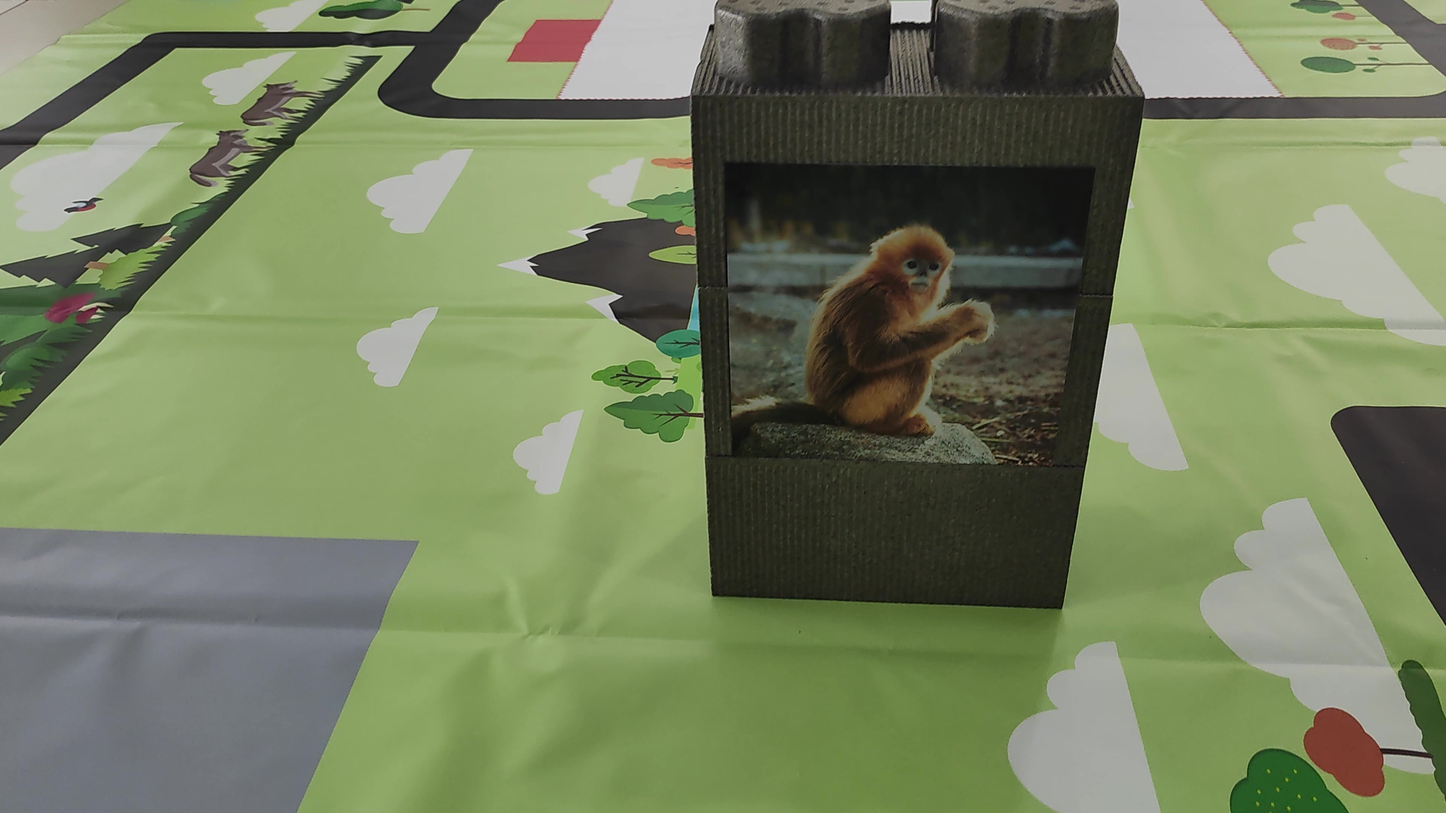monkey: (754, 192, 1008, 466)
